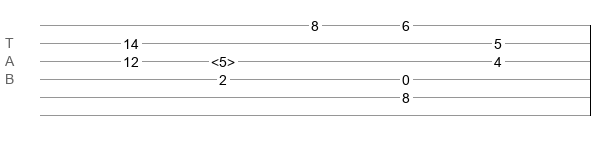0: (402, 72, 410, 82)
12: (123, 54, 139, 64)
14: (123, 36, 139, 46)
2: (219, 72, 227, 82)
4: (494, 54, 502, 64)
5: (494, 36, 502, 46)
6: (402, 18, 410, 28)
8: (311, 18, 319, 28), (402, 90, 410, 100)
harmonic: (211, 54, 235, 64)
